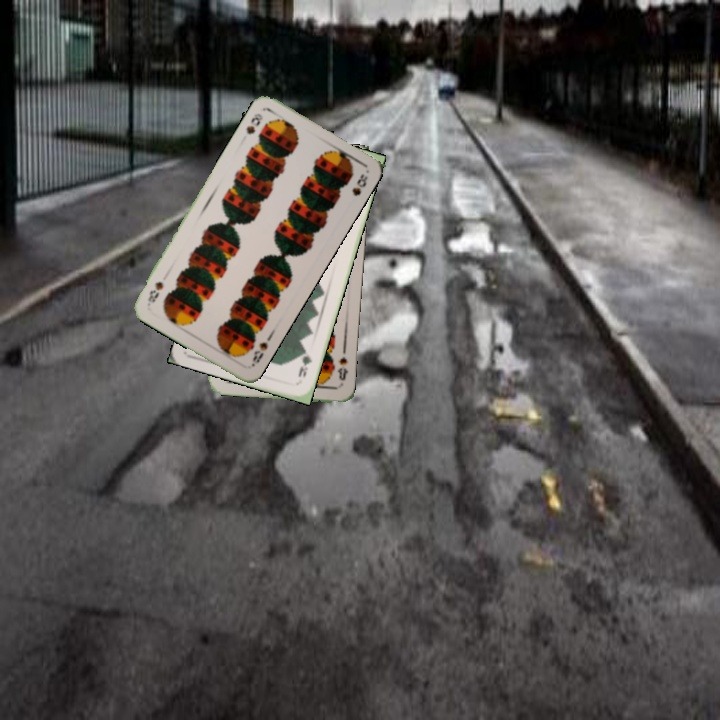G9: (294, 346, 314, 380)
S8: (247, 338, 270, 369), (242, 109, 265, 137), (333, 353, 350, 383)
